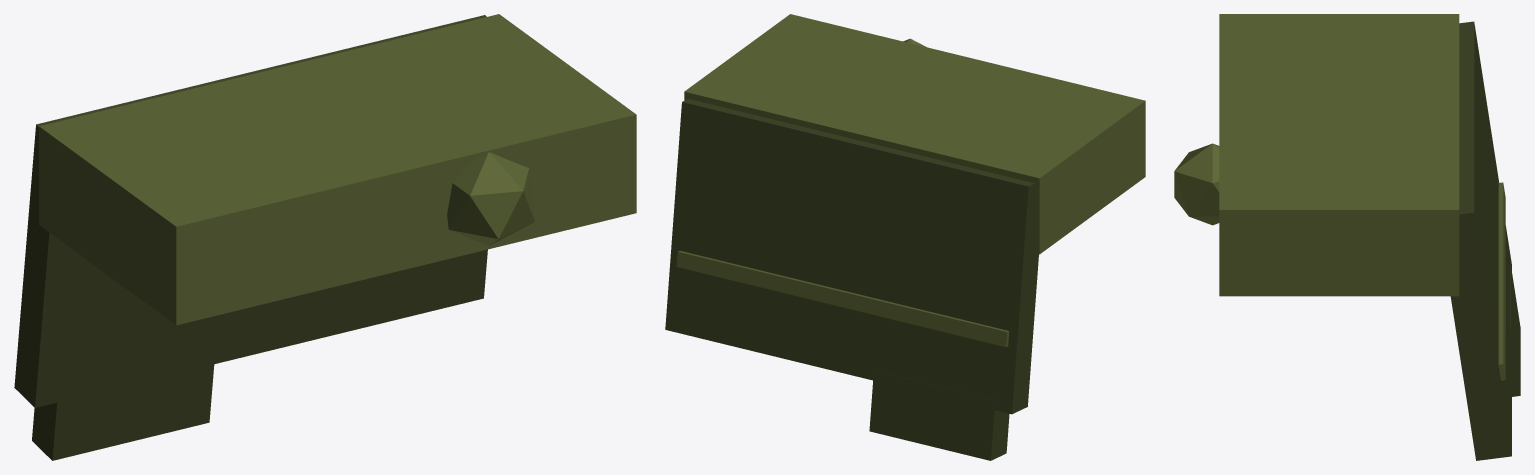
Rendered from inf_hocker_lower_torso.fbx.
The picture shows the model from 3 angles, left to right: view 1: azimuth 30°, elevation 25°; view 2: azimuth 150°, elevation 25°; view 3: azimuth 270°, elevation 25°; orthographic projection. The views are drawn at different scales.
Parts seen in each view (by area): view 1: inf_hocker_lower_torso; view 2: inf_hocker_lower_torso; view 3: inf_hocker_lower_torso.
Boxes of the visible parts, left/top/right/bottom form: inf_hocker_lower_torso: left=14, top=14, right=636, bottom=460; inf_hocker_lower_torso: left=665, top=14, right=1145, bottom=460; inf_hocker_lower_torso: left=1174, top=14, right=1520, bottom=460.
Size of the model in its own units: 205 by 151 by 153.
